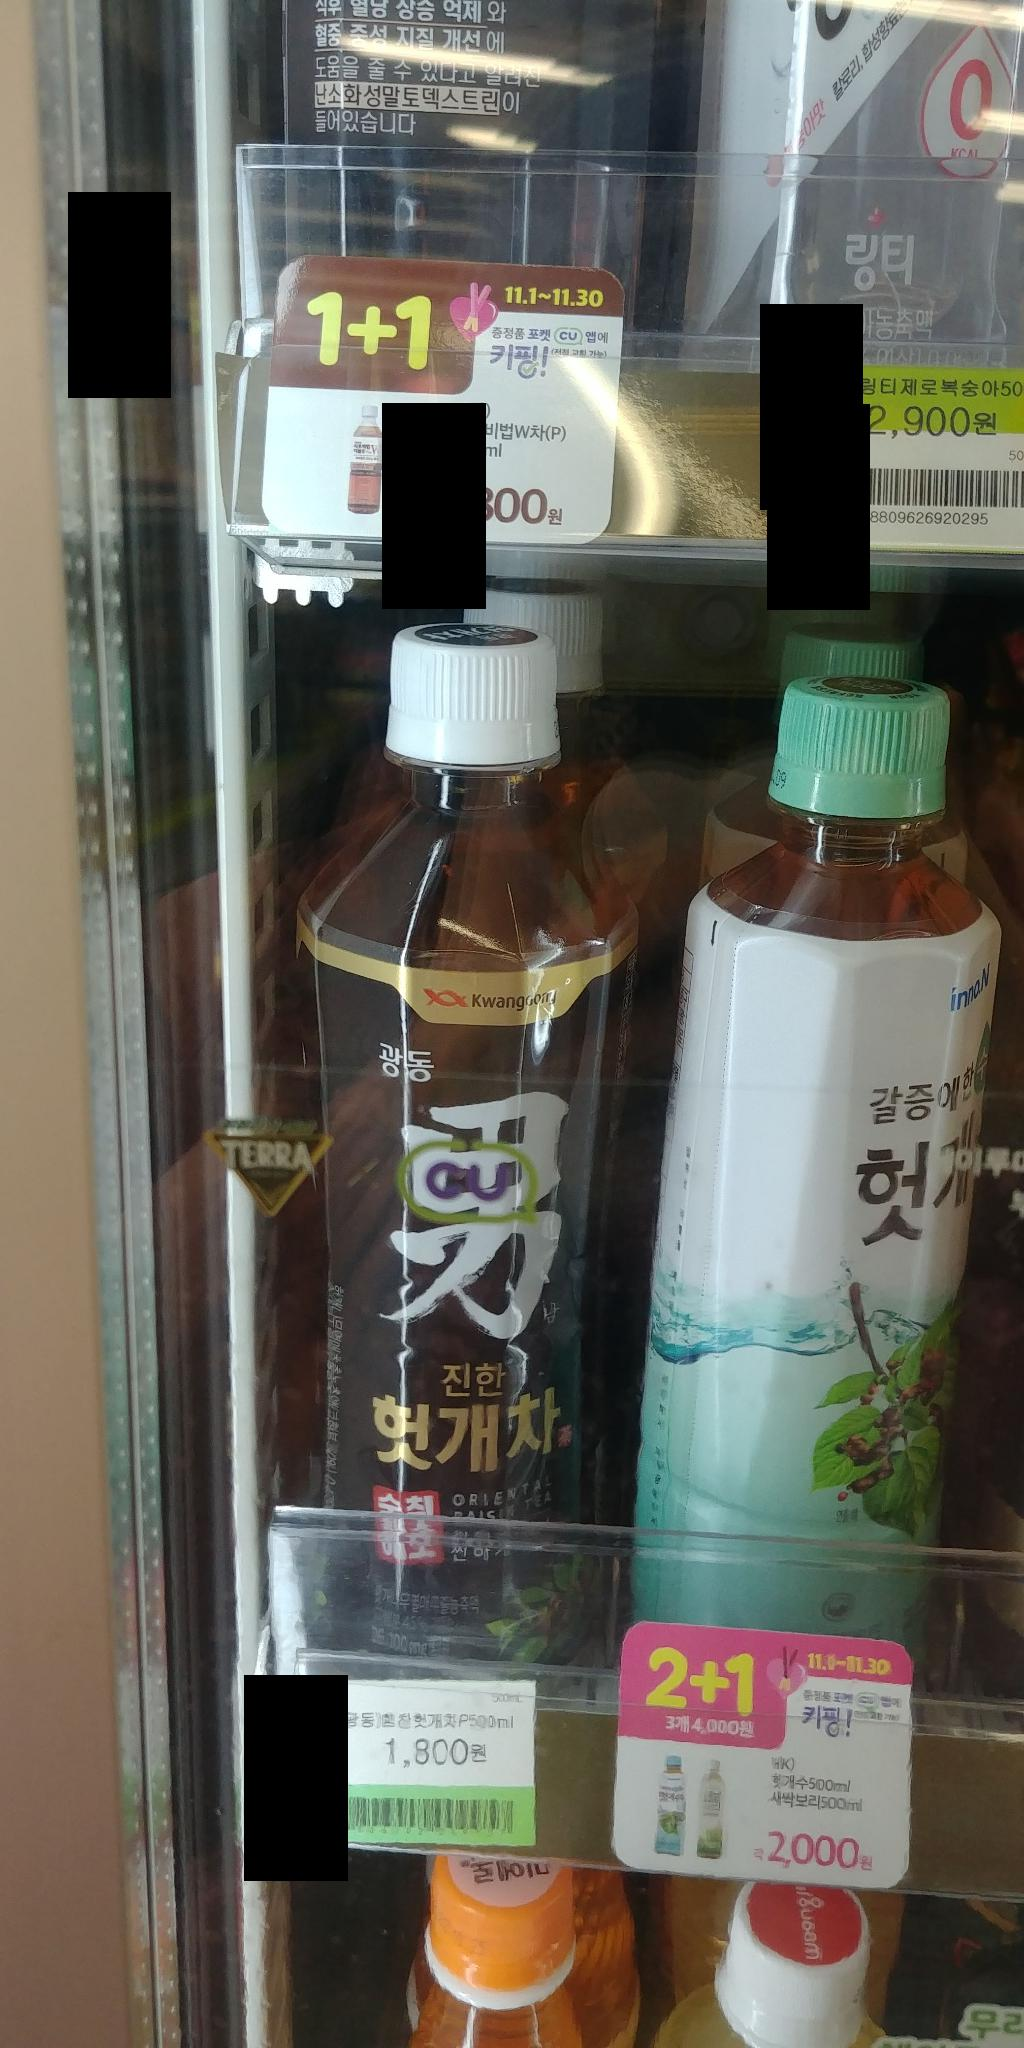heotgaecha: (272, 605, 635, 1661)
